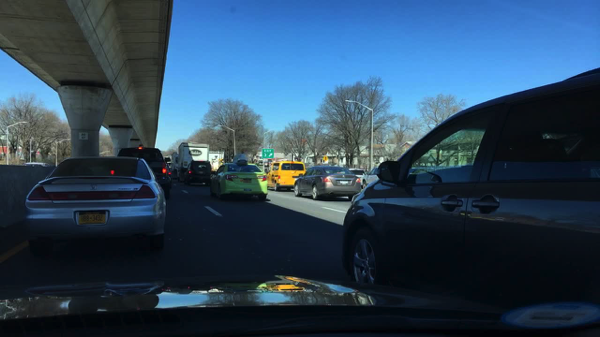car: (339, 67, 599, 315), (25, 156, 169, 254), (117, 147, 173, 201), (210, 154, 269, 201), (295, 165, 362, 201), (364, 166, 423, 189), (267, 159, 306, 191), (184, 161, 213, 187), (349, 168, 369, 190)
traffic sign: (260, 148, 274, 159), (323, 156, 329, 163)
truck: (175, 142, 212, 182), (210, 151, 226, 173), (168, 152, 179, 182)
